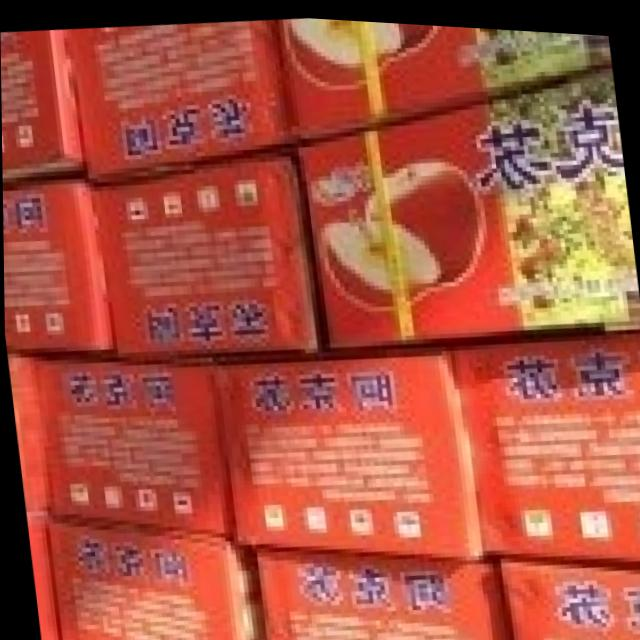box: (294, 60, 640, 343), (208, 339, 485, 552), (90, 142, 322, 353), (436, 318, 640, 555), (276, 16, 612, 133), (29, 351, 230, 534), (69, 21, 296, 180), (44, 516, 254, 640), (249, 548, 510, 640), (2, 169, 114, 356), (0, 29, 87, 181), (497, 553, 640, 639), (10, 349, 47, 509), (28, 507, 60, 640)
